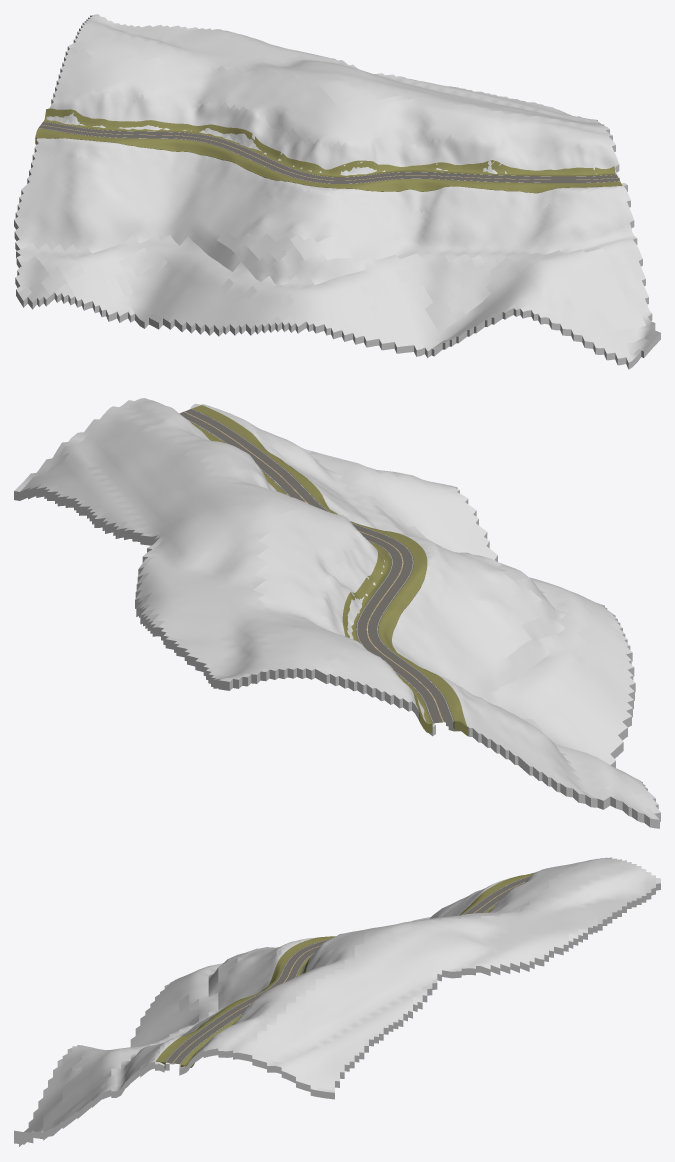
File: conz_166.glb
The picture shows the model from 3 angles, top to bottom: view 1: azimuth 30°, elevation 25°; view 2: azimuth 150°, elevation 25°; view 3: azimuth 270°, elevation 25°; orthographic projection. The views are drawn at different scales.
Visible parts, largest first — view 1: terrain166, verge166R, verge166L, road166; view 2: terrain166, road166, verge166L, verge166R; view 3: terrain166, road166, verge166L, verge166R.
Part boxes in pixels (x1=…): terrain166: x1=14, y1=14, x2=660, y2=369; verge166R: x1=43, y1=108, x2=616, y2=176; verge166L: x1=35, y1=128, x2=622, y2=193; road166: x1=38, y1=121, x2=619, y2=183; terrain166: x1=14, y1=398, x2=660, y2=828; road166: x1=179, y1=408, x2=454, y2=723; verge166L: x1=192, y1=405, x2=467, y2=736; verge166R: x1=191, y1=422, x2=432, y2=732; terrain166: x1=14, y1=857, x2=660, y2=1146; road166: x1=165, y1=875, x2=530, y2=1064; verge166L: x1=155, y1=873, x2=533, y2=1068; verge166R: x1=180, y1=903, x2=497, y2=1067.
Bounding box in the file's own units: 242 × 77.52 × 266.
